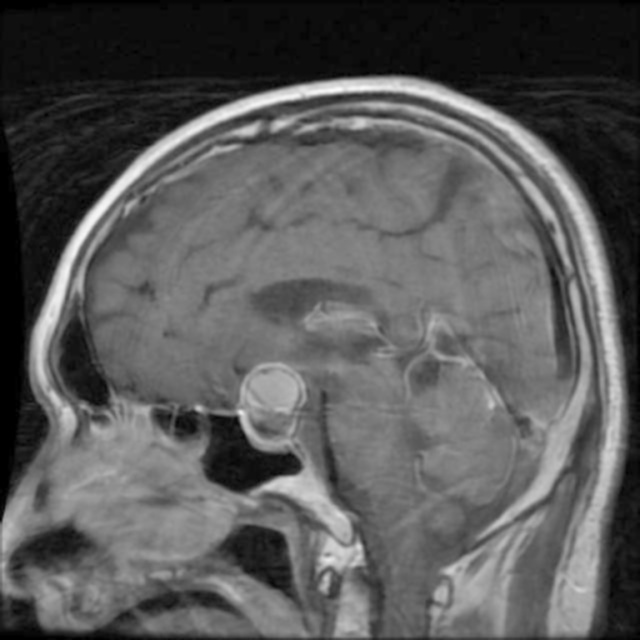no tumor: (236, 360, 310, 454)
